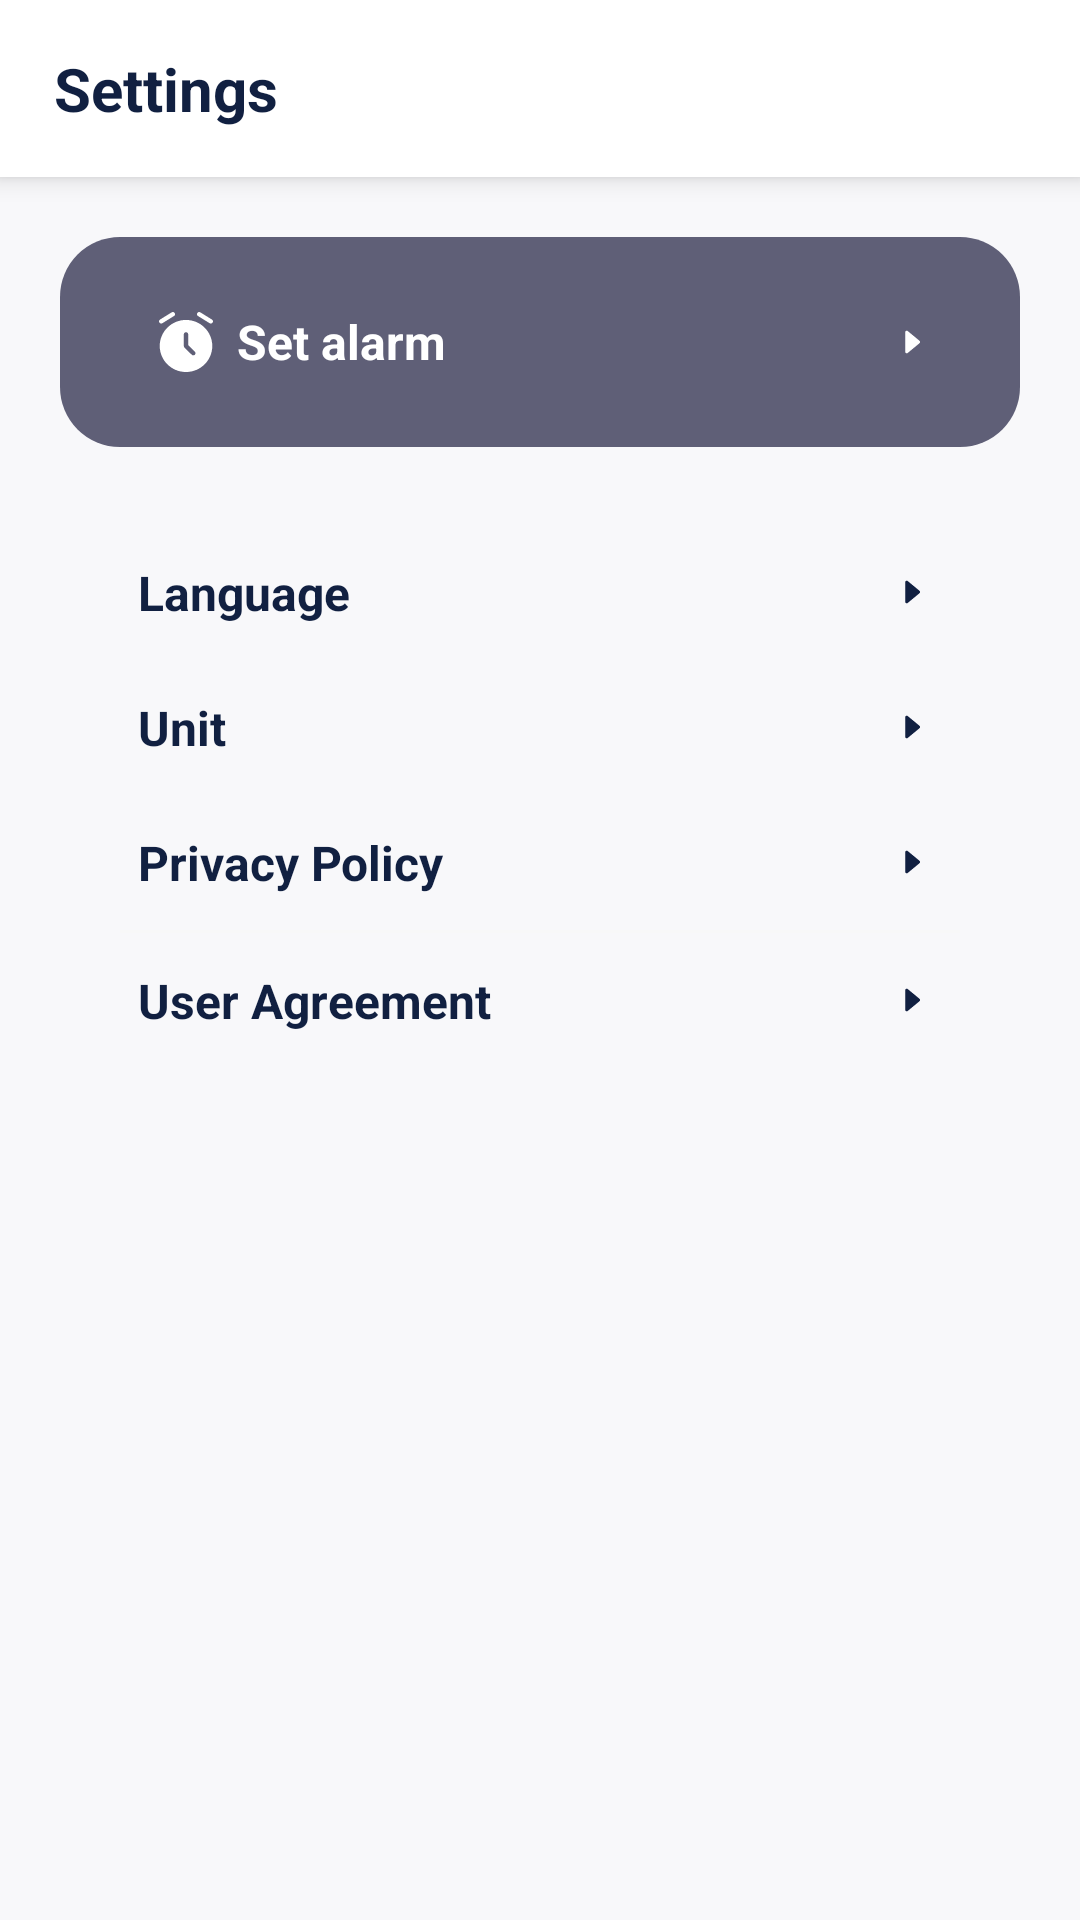

Named icons in this screenshot (1080 × 1920) and their bounding boxes, [x1=x1, y1=y1, x2=x2, y2=y2]:
arrow right tiny: [x1=905, y1=330, x2=920, y2=354], [x1=905, y1=580, x2=920, y2=604], [x1=905, y1=715, x2=920, y2=739], [x1=905, y1=850, x2=920, y2=874], [x1=905, y1=988, x2=920, y2=1012]
